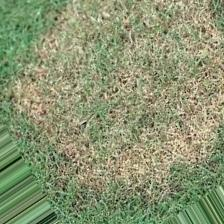patch: (51, 35, 182, 164), (57, 172, 177, 193), (75, 5, 183, 28), (193, 33, 221, 107)
